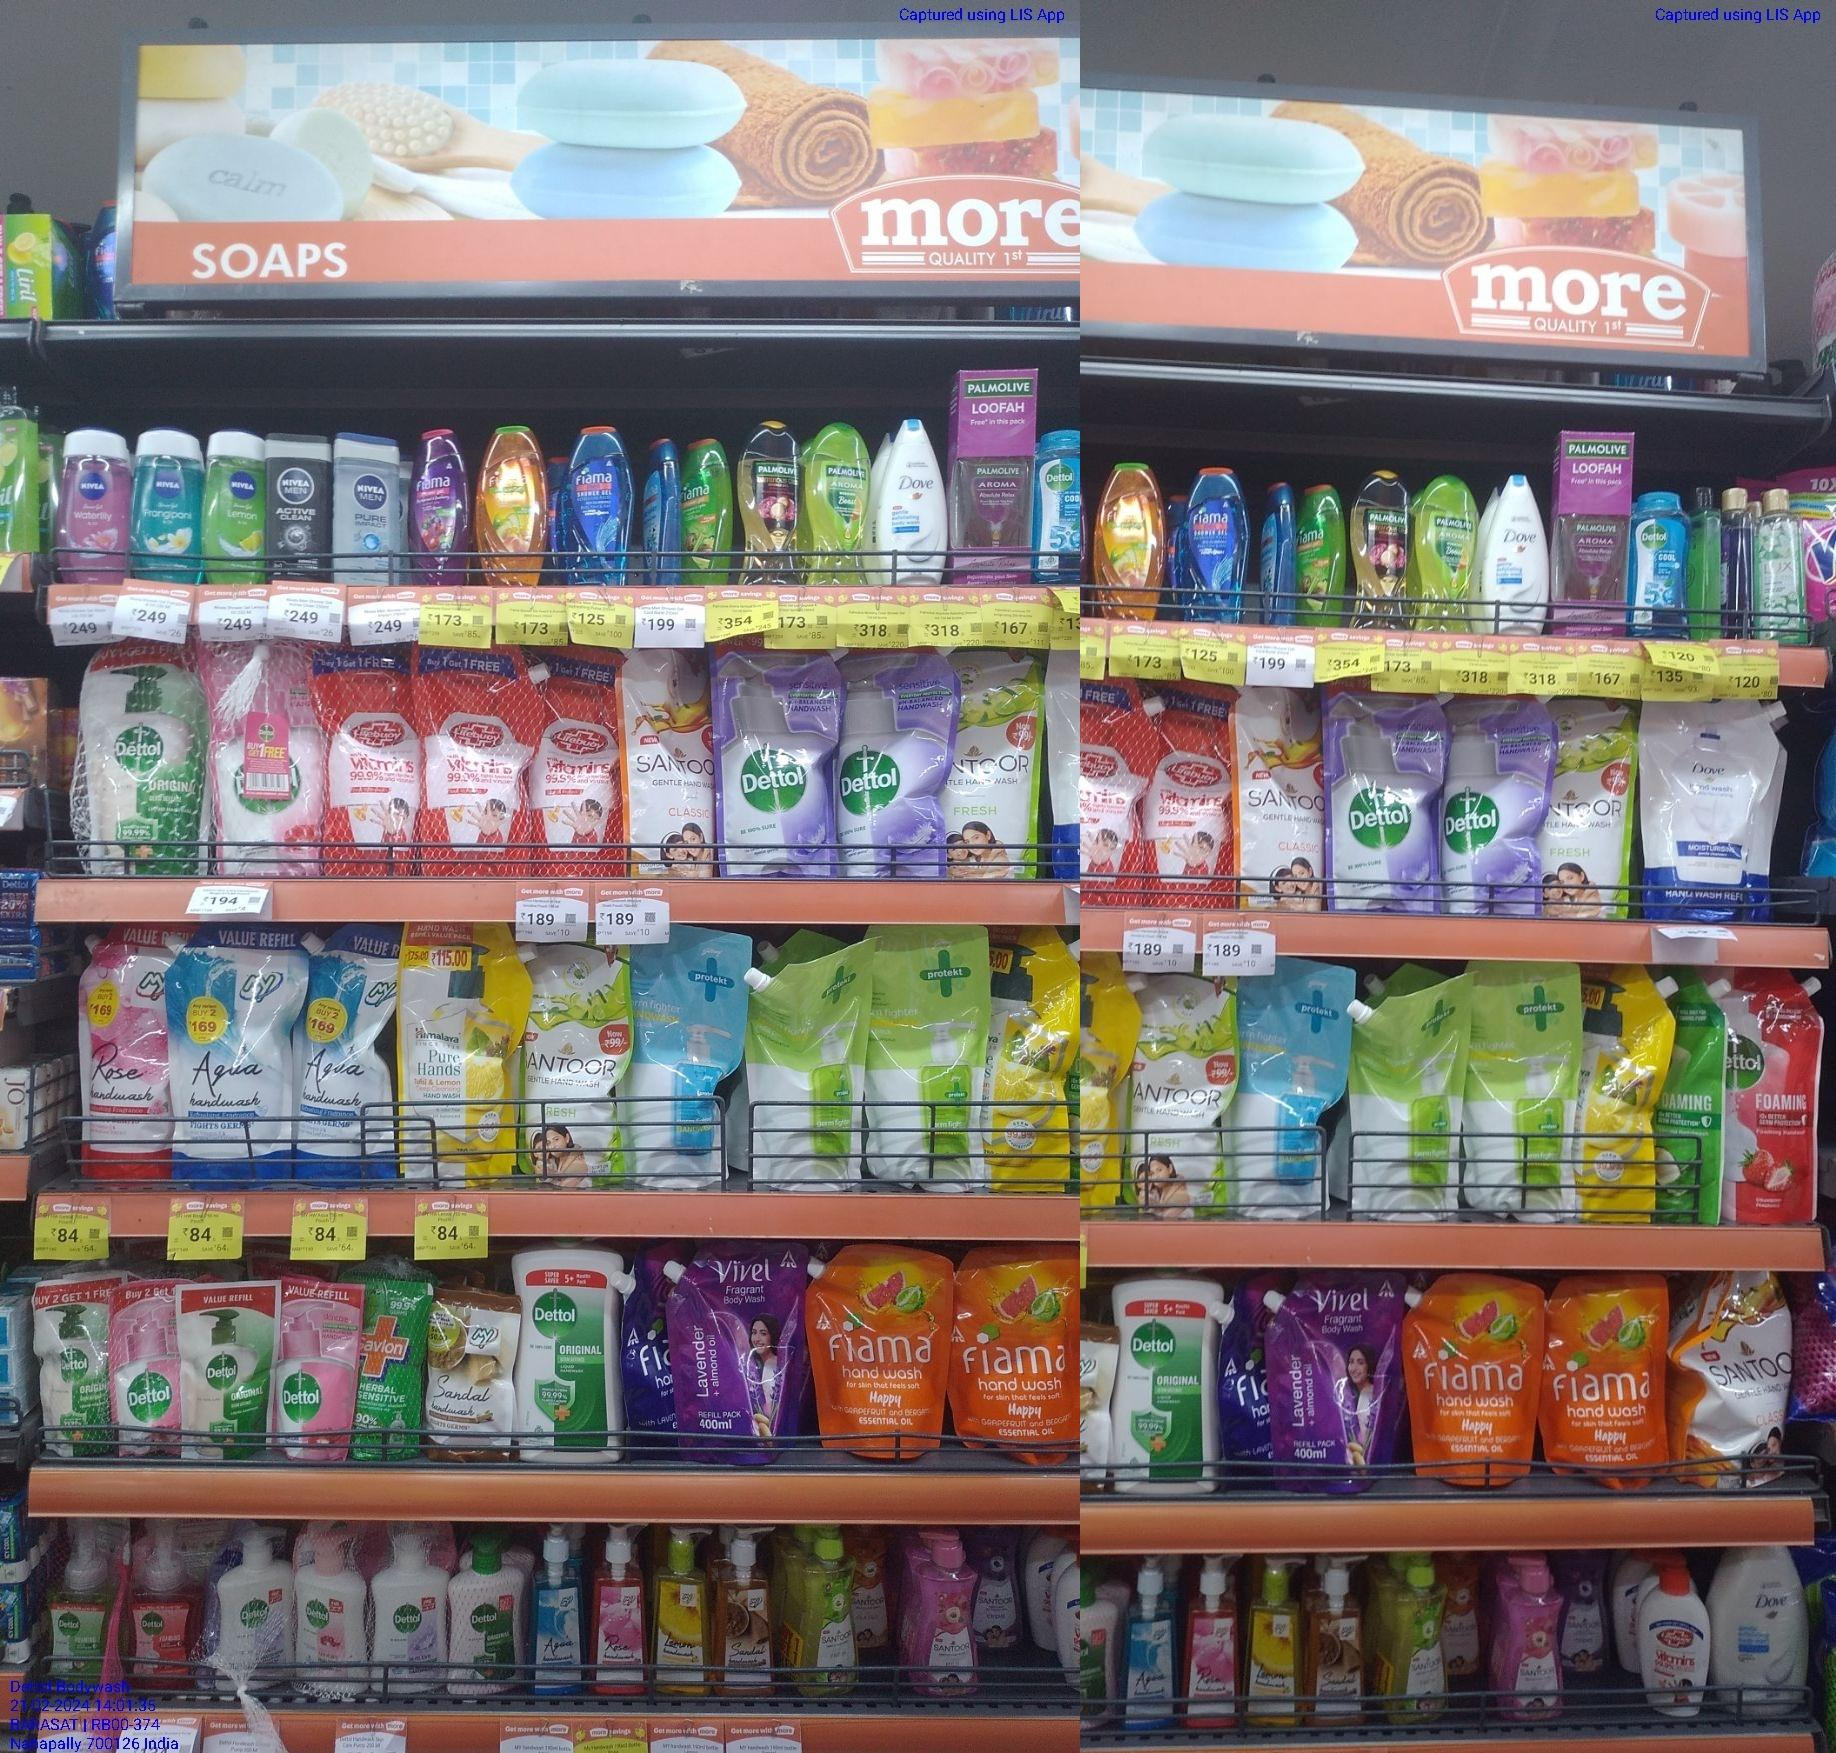Dettol_Bodywash_Cool: (1629, 489, 1690, 640)
Dove_Gentle_Exfoliating_Body_Wash_250ML: (877, 417, 949, 585), (1480, 471, 1549, 635)
Fiama_Shower_Gel_Peach_and_Avocado_250ML: (474, 423, 548, 587), (1092, 459, 1166, 622)
Lux_Body_Wash_Skin_Detox_Freesia_Scent_and_Alove_Vera_245ML: (1754, 485, 1806, 646)
Nivea_Shower_Gel_Frangipani_and_Oil_250ML: (131, 428, 202, 582)
Nivea_Shower_Gel_Lemon_and_Oil_250ML: (203, 428, 267, 584)
Nivea_Shower_Gel_Waterlily_and_Oil_250ML: (54, 425, 130, 584)
Palmolive_Aroma_Morning_Tonic_Shower_Gel_250ML: (802, 418, 872, 585), (1413, 472, 1480, 633)
Palmolive_Luminous_Oils_Invigorating_Macadamia_Oil_With_Peony_250ML: (736, 420, 803, 585), (1347, 469, 1413, 628)
